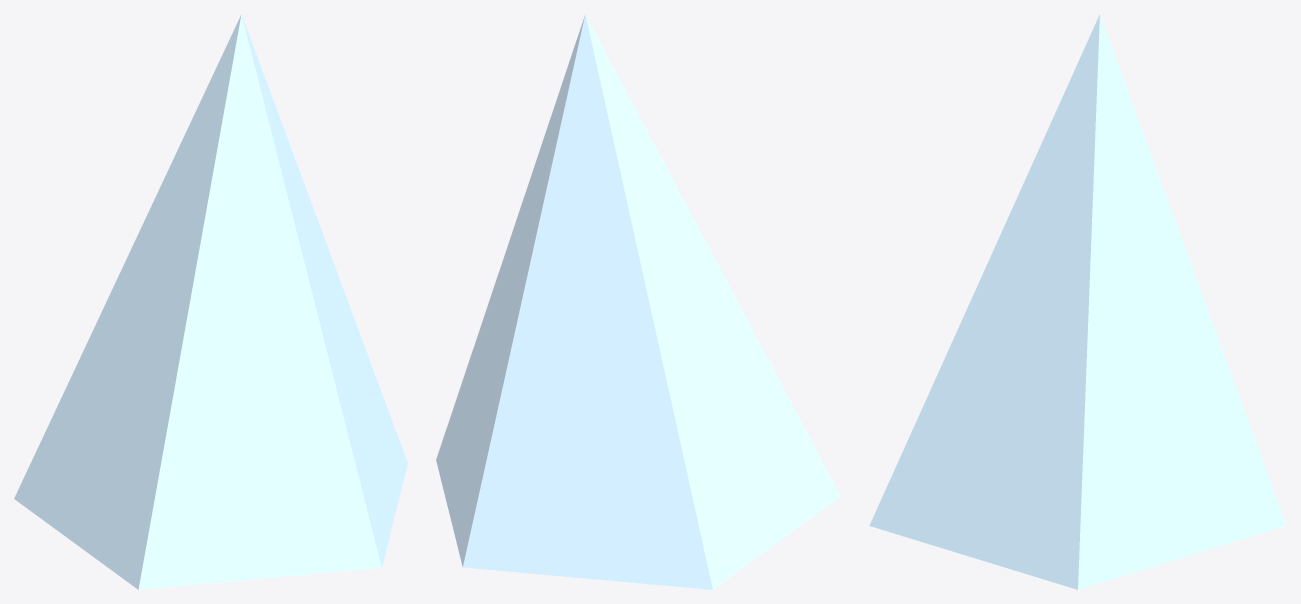
The model's file is Glacial_Shard.glb.
3 renders of one model, left to right at view 1: azimuth 30°, elevation 25°; view 2: azimuth 150°, elevation 25°; view 3: azimuth 270°, elevation 25°, orthographic. The views are drawn at different scales.
Visible parts, largest first — view 1: GlacialShard; view 2: GlacialShard; view 3: GlacialShard.
Boxes of the visible parts, x1,y1,x2,y2 form: GlacialShard: (14,14,407,589); GlacialShard: (436,14,840,589); GlacialShard: (869,14,1286,589).
Bounding box in the file's own units: 0.3256 × 0.49 × 0.3424.
